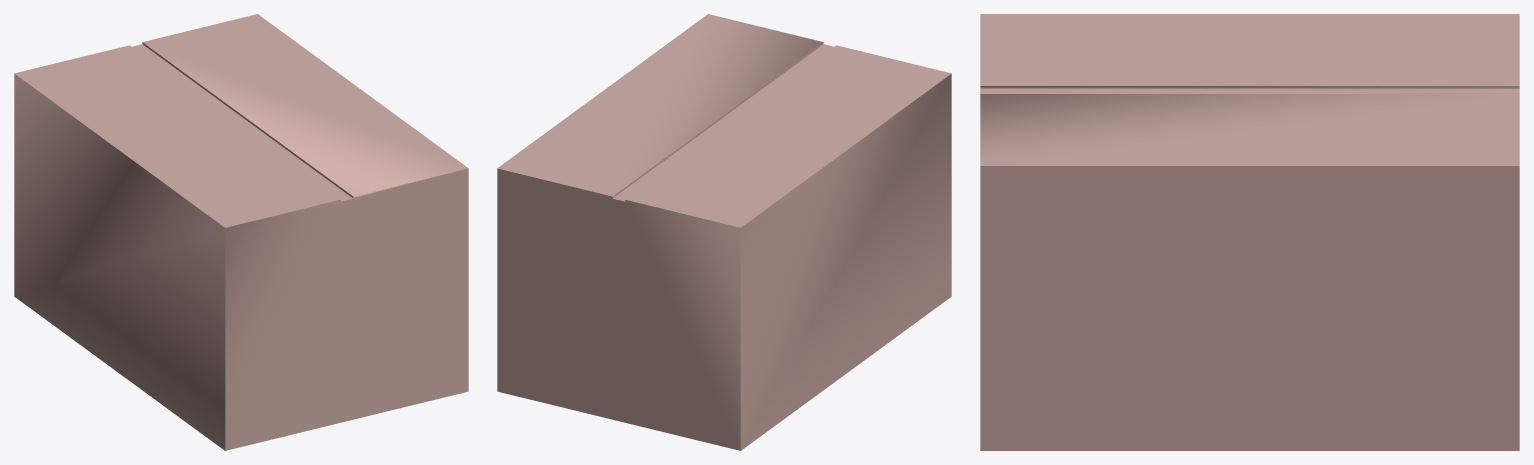
Rendered from Box_Large.fbx.
3 renders of one model, left to right at view 1: azimuth 30°, elevation 25°; view 2: azimuth 150°, elevation 25°; view 3: azimuth 270°, elevation 25°, orthographic. The views are drawn at different scales.
Parts seen in each view (by area): view 1: Box_S; view 2: Box_S; view 3: Box_S.
Boxes of the visible parts, box(x1,y1,x2,y2) form: Box_S: box(14, 14, 468, 450); Box_S: box(497, 14, 951, 450); Box_S: box(980, 14, 1519, 450).
Bounding box in the file's own units: 32 × 28 × 48.
